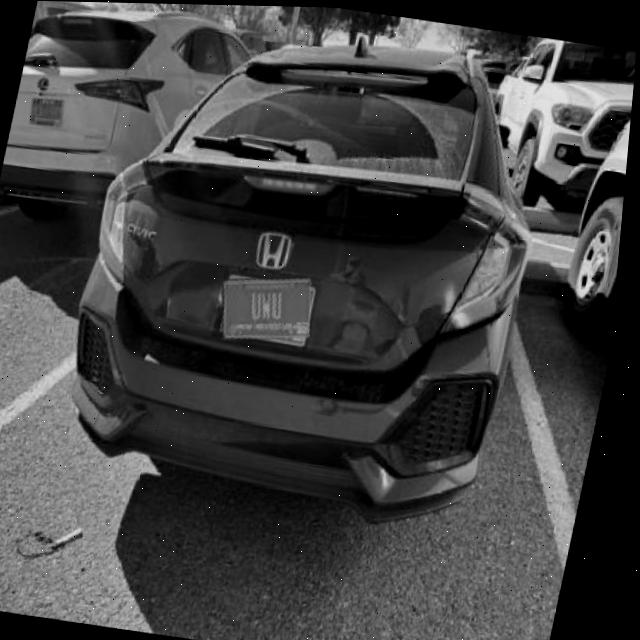LicensePlate: (228, 276, 317, 337)
